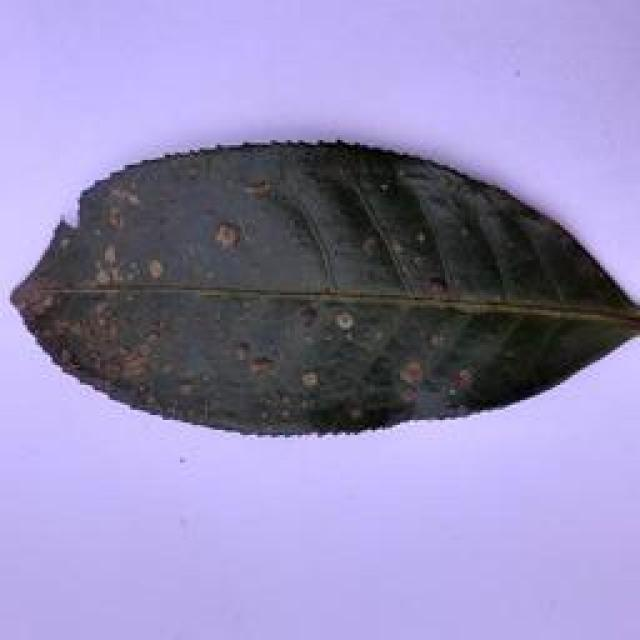Algal Leaf Spot: (10, 130, 638, 457)
